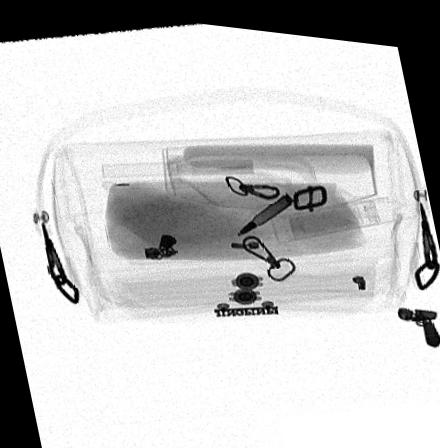Bullet: (237, 185, 295, 231)
